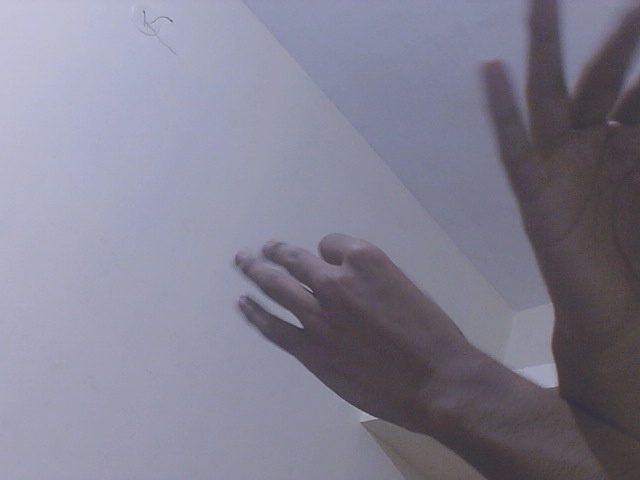hand: (474, 2, 640, 353), (230, 226, 499, 433)
